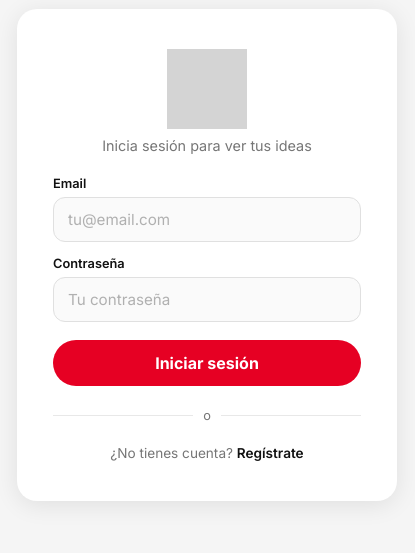
Test: LoginForm › muestra error del servidor si el login falla sin limpiar campos
This screenshot has width=415, height=553.
Type "test@example.com" into the field labelled "Email" at (207, 220), box left=53, top=197, right=361, bottom=242
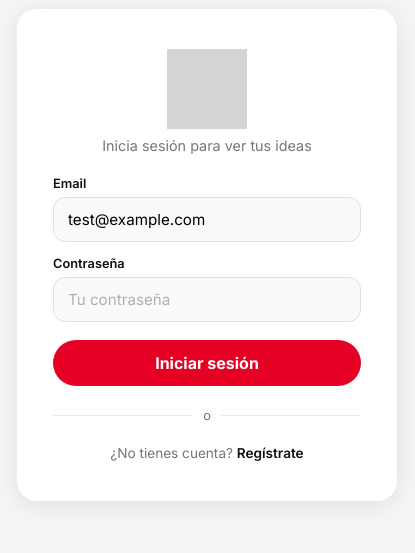
Type "wrongpass" into the password field labelled "Contraseña" at (207, 300), box left=53, top=277, right=361, bottom=322
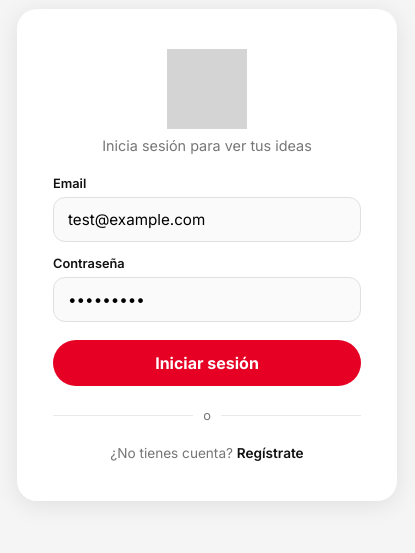
Click the button "Iniciar sesión" at (207, 363), box left=53, top=340, right=361, bottom=386
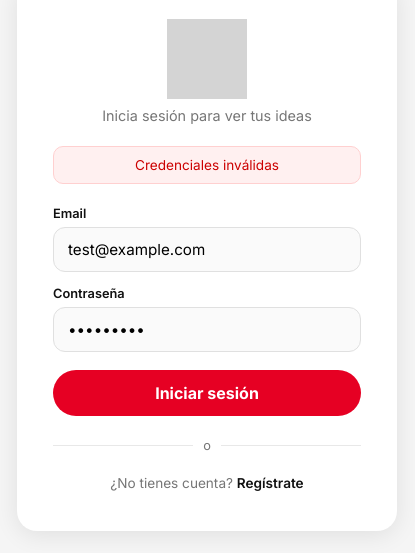
Check: the message reads "Credenciales inválidas", box left=135, top=157, right=279, bottom=173
